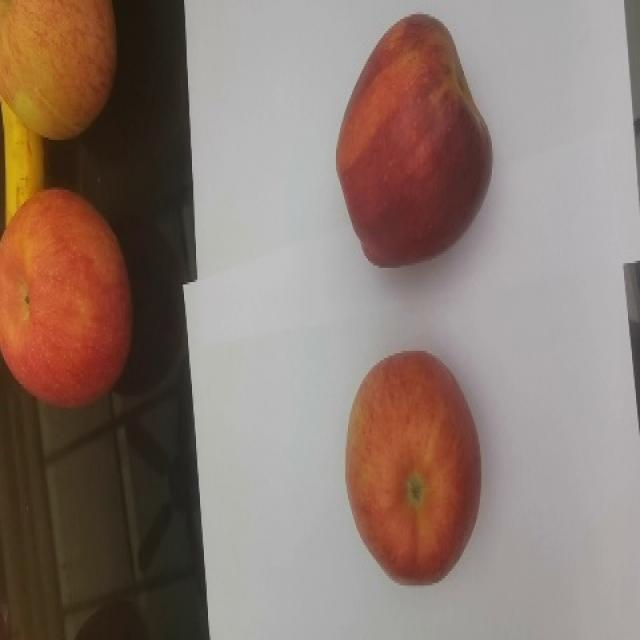Apple: (335, 12, 493, 268), (344, 349, 482, 586), (0, 186, 134, 409), (0, 0, 118, 141)
